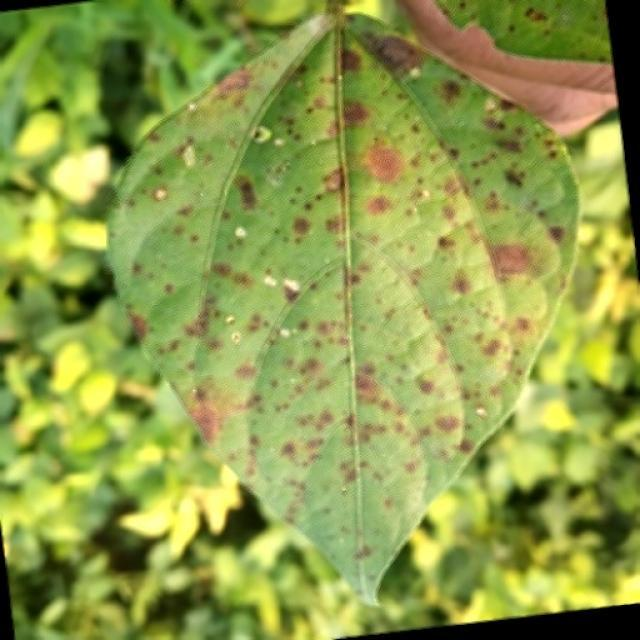leaves: (2, 0, 640, 602)
